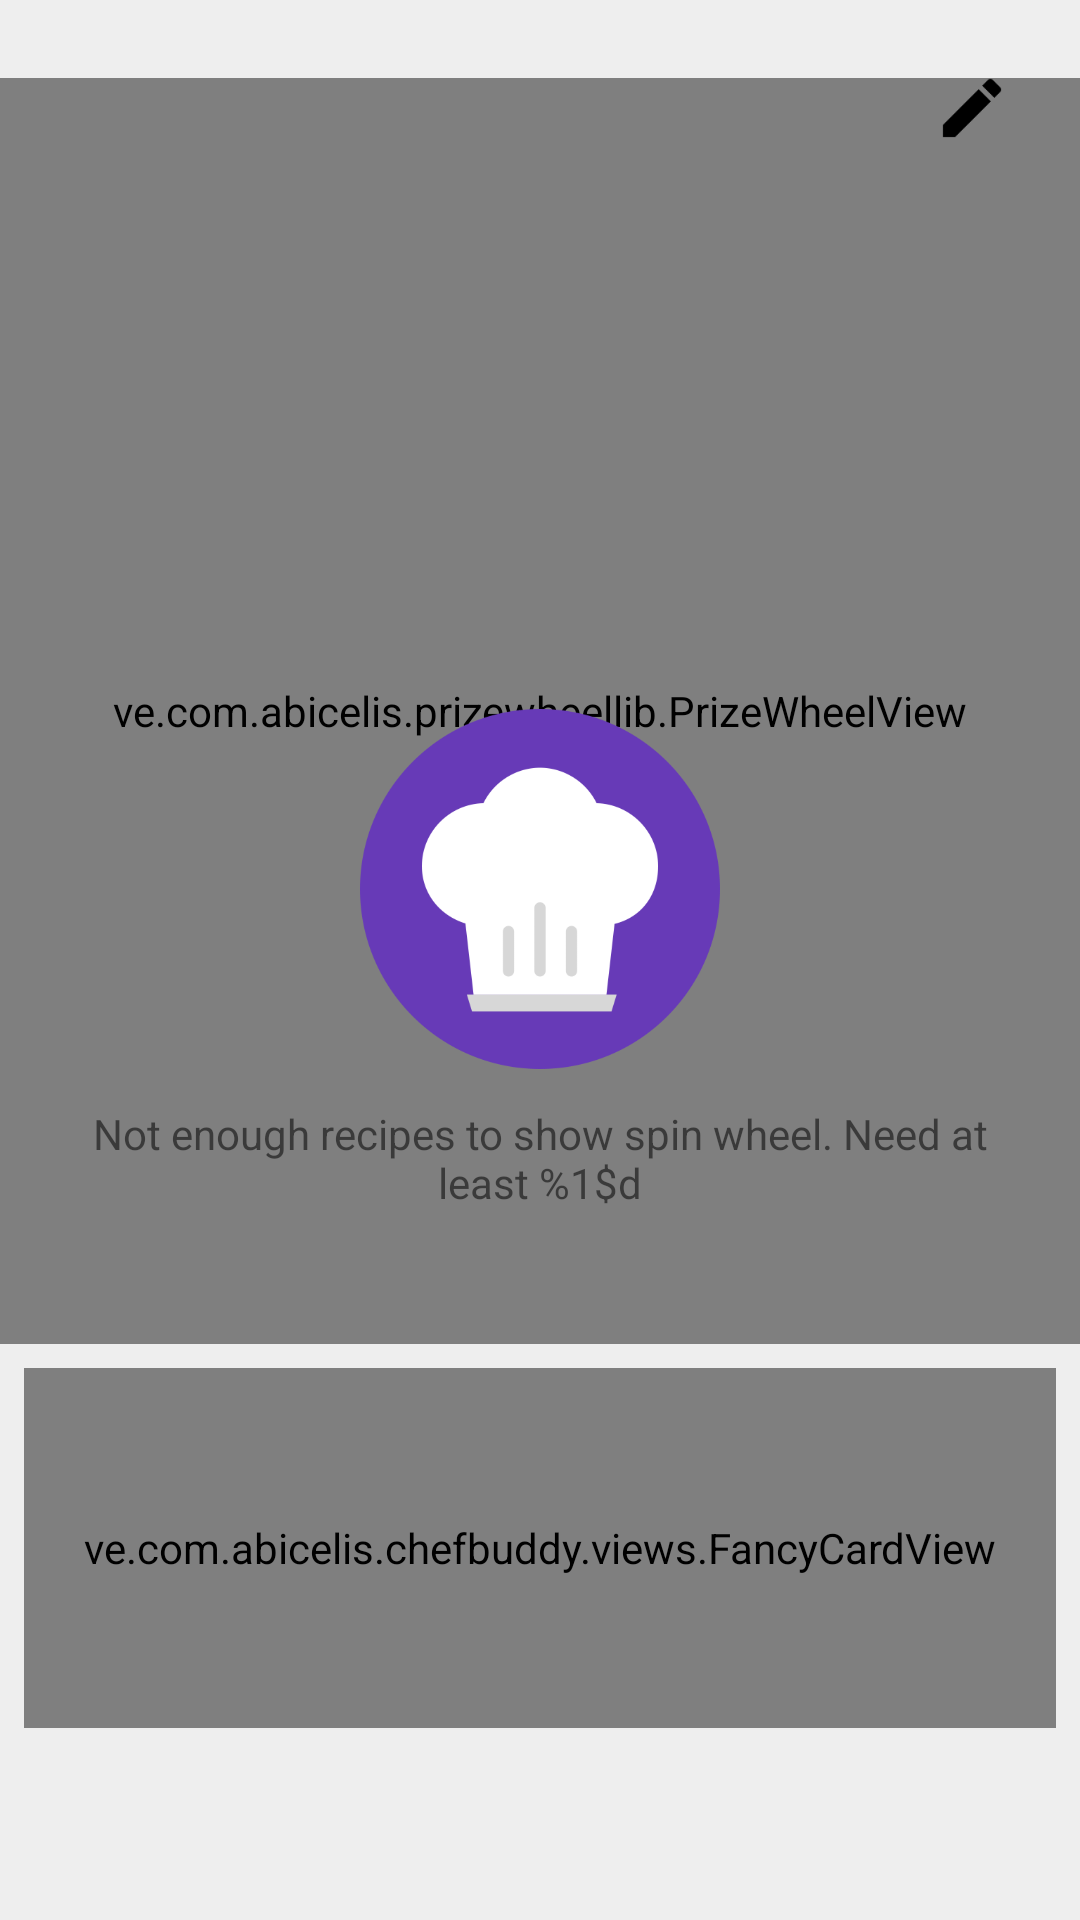

Icon click points for this 1080*1920 phone screenshot, format [x,y]:
chef buddy: [540,889]
